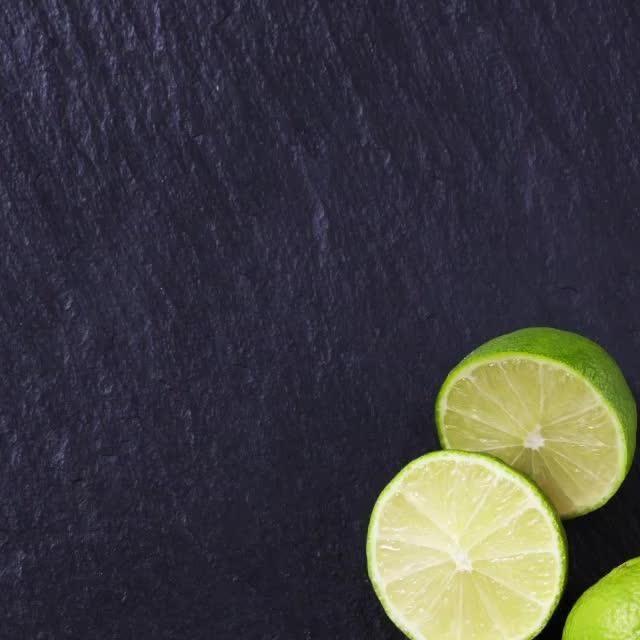lime: (553, 532, 640, 640)
